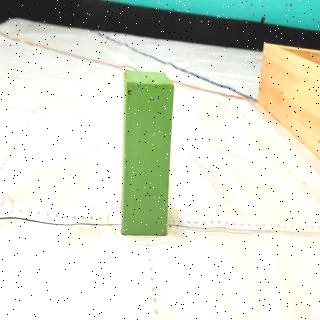greenbox: (119, 66, 177, 237)
